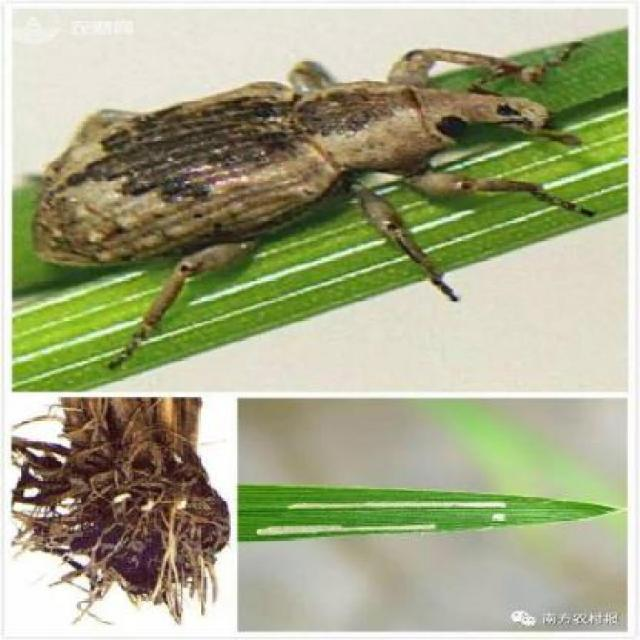rice-bug: (32, 46, 546, 279)
